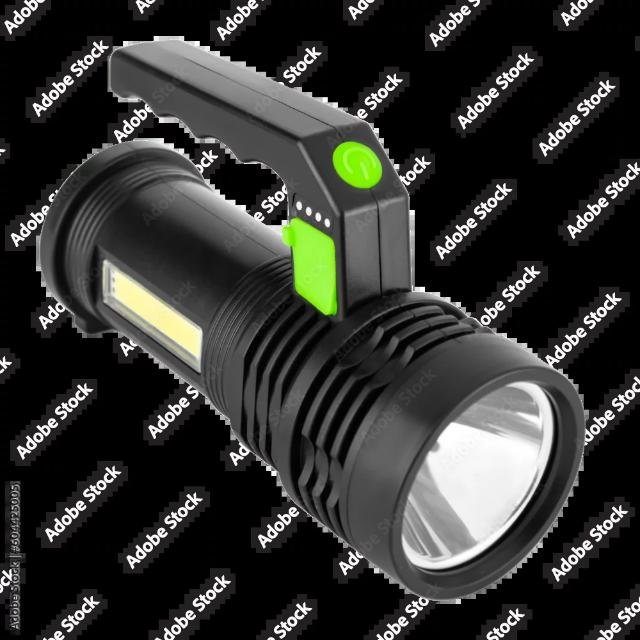Flashlight: (29, 29, 594, 612)
